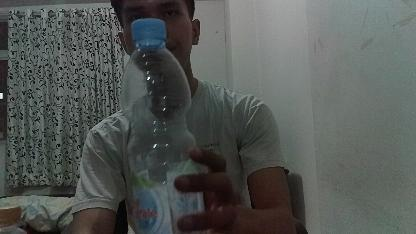Plastic Bottle: (119, 20, 191, 234)
